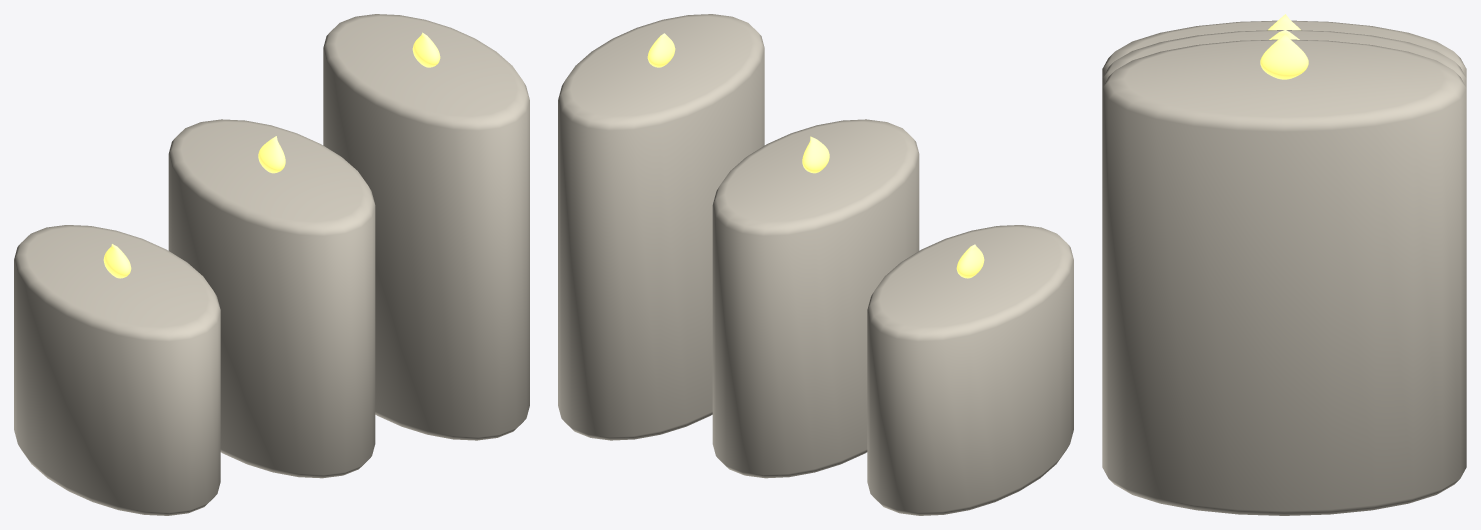
The model's file is candle-trio.glb.
3 views of the same model, side by side, from view 1: azimuth 30°, elevation 25°; view 2: azimuth 150°, elevation 25°; view 3: azimuth 270°, elevation 25° (orthographic). The views are drawn at different scales.
Parts seen in each view (by area): view 1: catalog_surface_RealismUV, catalog_surface_UVMap; view 2: catalog_surface_RealismUV, catalog_surface_UVMap; view 3: catalog_surface_RealismUV, catalog_surface_UVMap.
Boxes of the visible parts, x1,y1,x2,y2 form: catalog_surface_RealismUV: (14,14,529,515); catalog_surface_UVMap: (103,32,440,278); catalog_surface_RealismUV: (558,14,1073,515); catalog_surface_UVMap: (647,33,984,278); catalog_surface_RealismUV: (1102,20,1466,515); catalog_surface_UVMap: (1260,14,1308,79).
Bounding box in the file's own units: 0.32 × 0.24 × 0.18.
